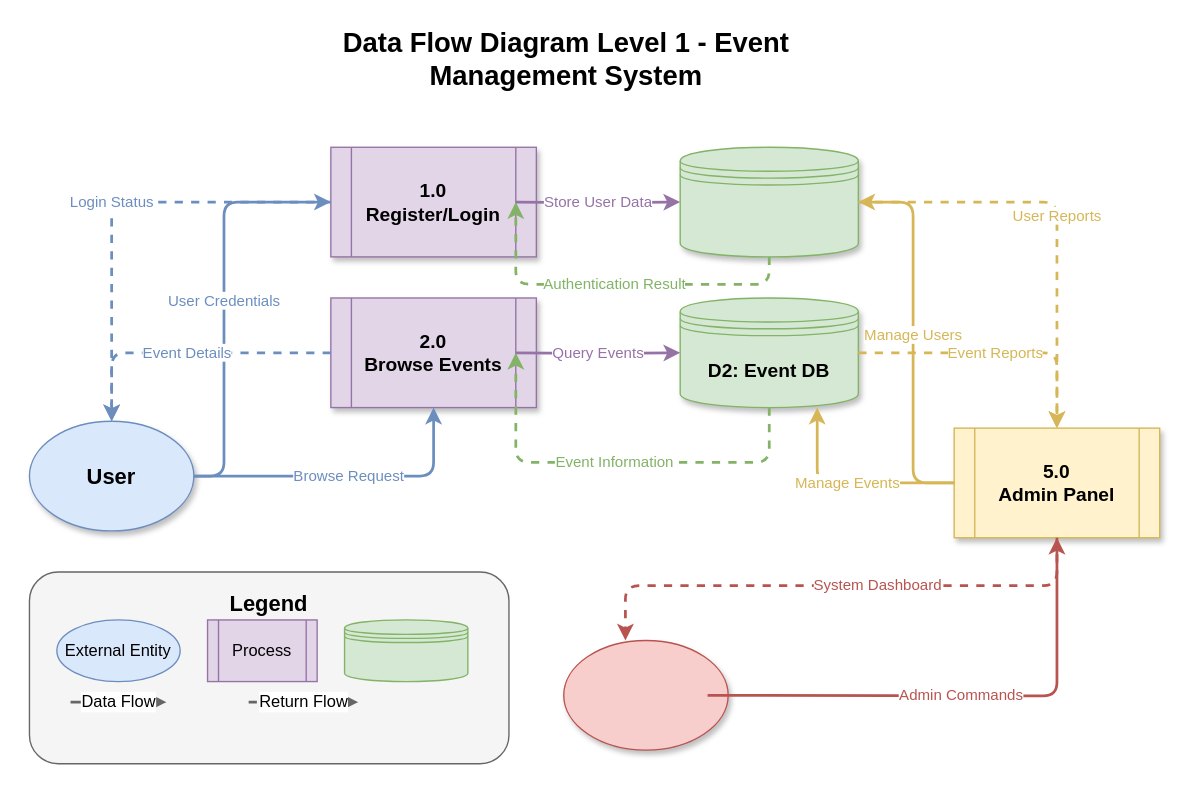
This 1192x788 diagram has some shape labels left out. Each missing label, with the centre of its shape:
"Admin" goes at point (646, 697).
"D1: User DB" goes at point (770, 203).
"Data Store" goes at point (405, 650).
